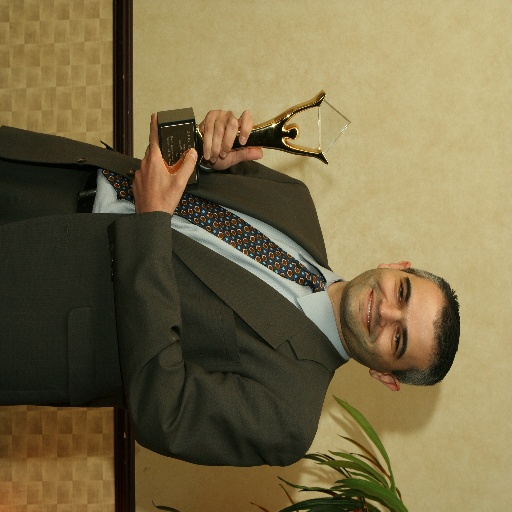hand: (131, 109, 198, 218), (201, 99, 272, 171)
